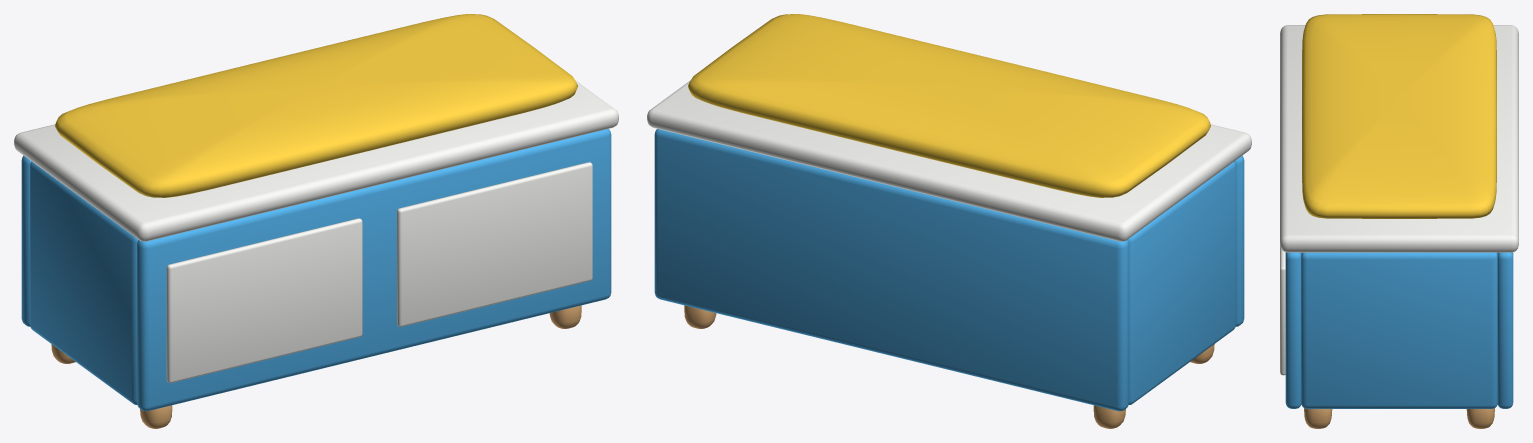
The model's file is banco_bau_azul.glb.
3 renders of one model, left to right at view 1: azimuth 30°, elevation 25°; view 2: azimuth 150°, elevation 25°; view 3: azimuth 270°, elevation 25°, orthographic. The views are drawn at different scales.
Parts seen in each view (by area): view 1: banco_bau_azul, tampa; view 2: banco_bau_azul, tampa; view 3: tampa, banco_bau_azul.
Boxes of the visible parts, bbox=[...] form: banco_bau_azul: bbox=[21, 129, 611, 428]; tampa: bbox=[14, 14, 618, 241]; banco_bau_azul: bbox=[654, 129, 1244, 428]; tampa: bbox=[647, 14, 1251, 241]; tampa: bbox=[1280, 14, 1518, 252]; banco_bau_azul: bbox=[1280, 245, 1513, 428].
Size of the model in its own units: 0.94 by 0.48 by 0.44.
Materials: 1 (1 with a texture image).
